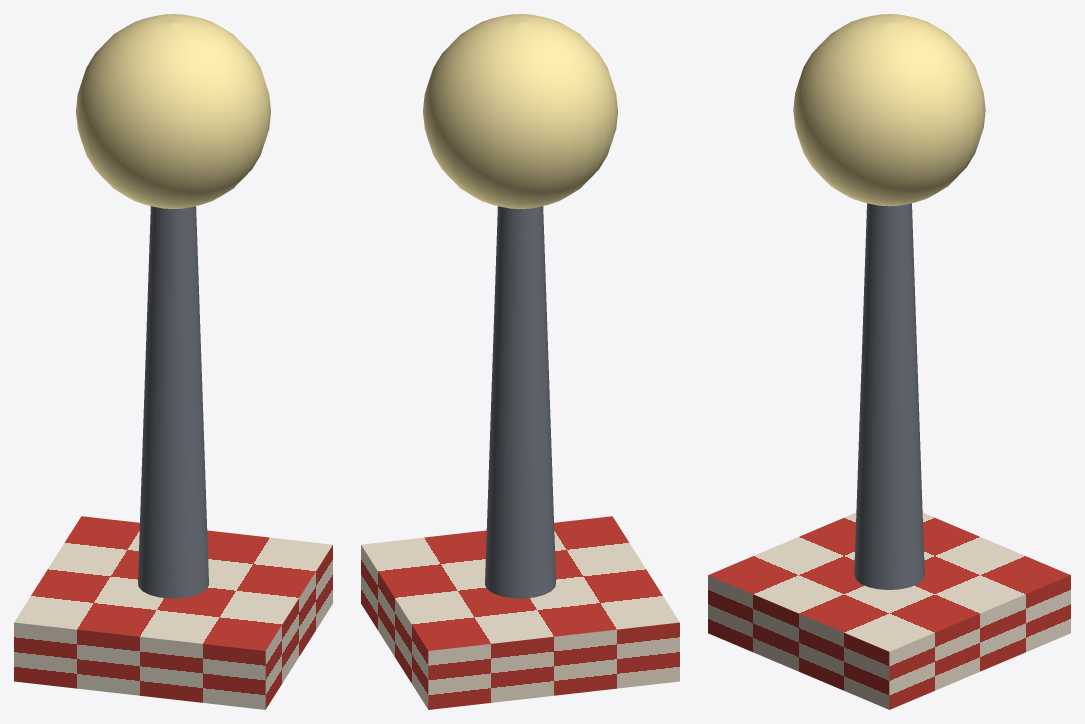
Rendered from lamp-post.glb.
The picture shows the model from 3 angles, left to right: view 1: azimuth 30°, elevation 25°; view 2: azimuth 150°, elevation 25°; view 3: azimuth 270°, elevation 25°; orthographic projection.
Visible parts, largest first — view 1: Base, Lamp, Post; view 2: Base, Lamp, Post; view 3: Base, Lamp, Post.
Part boxes in pixels (bbox=[...]): Base: bbox=[14, 516, 332, 709]; Lamp: bbox=[76, 14, 270, 208]; Post: bbox=[138, 206, 208, 598]; Base: bbox=[361, 516, 679, 709]; Lamp: bbox=[423, 14, 617, 208]; Post: bbox=[485, 206, 555, 598]; Base: bbox=[708, 513, 1070, 709]; Lamp: bbox=[793, 14, 985, 206]; Post: bbox=[854, 203, 924, 589].
Size of the model in its own units: 2.26 by 4.2 by 2.26.
Materials: 3 (1 with a texture image).
